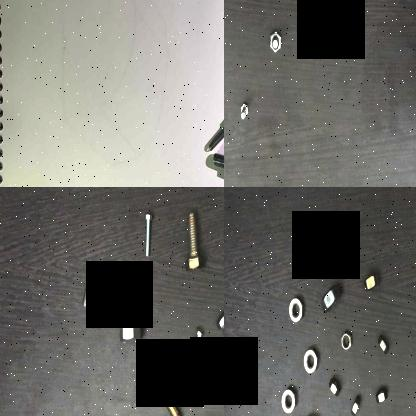Bolts: (182, 208, 206, 276), (118, 282, 142, 346), (153, 377, 187, 416), (78, 264, 102, 312), (186, 324, 207, 374), (142, 206, 156, 258), (207, 115, 224, 152), (266, 26, 284, 58), (236, 96, 254, 124), (211, 147, 224, 184), (216, 309, 224, 354)
NUTS: (320, 277, 343, 318), (278, 388, 300, 416), (288, 297, 308, 326), (302, 348, 322, 375), (294, 238, 310, 268), (362, 270, 382, 294), (327, 374, 341, 402), (376, 330, 390, 358), (339, 326, 353, 354), (374, 384, 390, 408), (348, 391, 363, 416)
